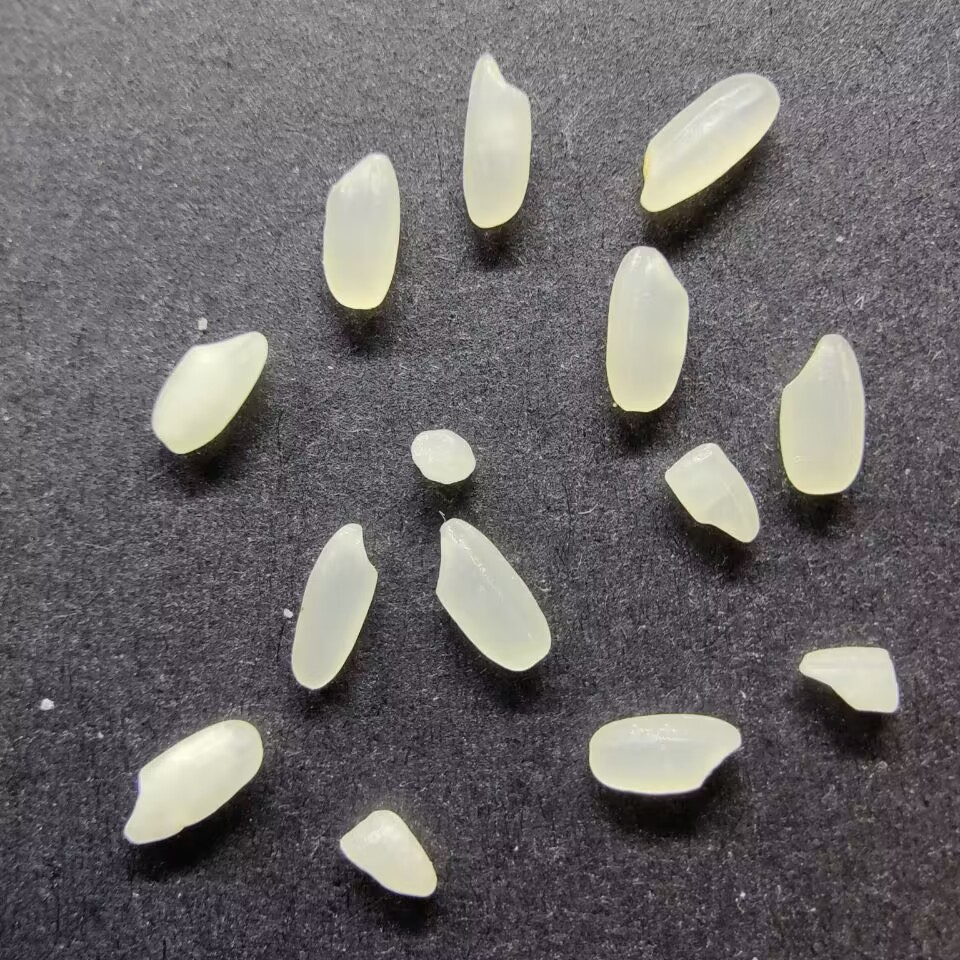broken: (663, 440, 761, 544), (338, 807, 439, 899), (798, 645, 902, 715), (409, 427, 478, 486)
rice: (637, 72, 782, 213), (432, 516, 552, 672), (121, 717, 264, 847), (776, 330, 868, 496), (149, 330, 271, 455), (289, 522, 379, 691), (603, 245, 692, 411), (460, 50, 533, 230), (320, 151, 402, 310), (585, 713, 745, 794)
